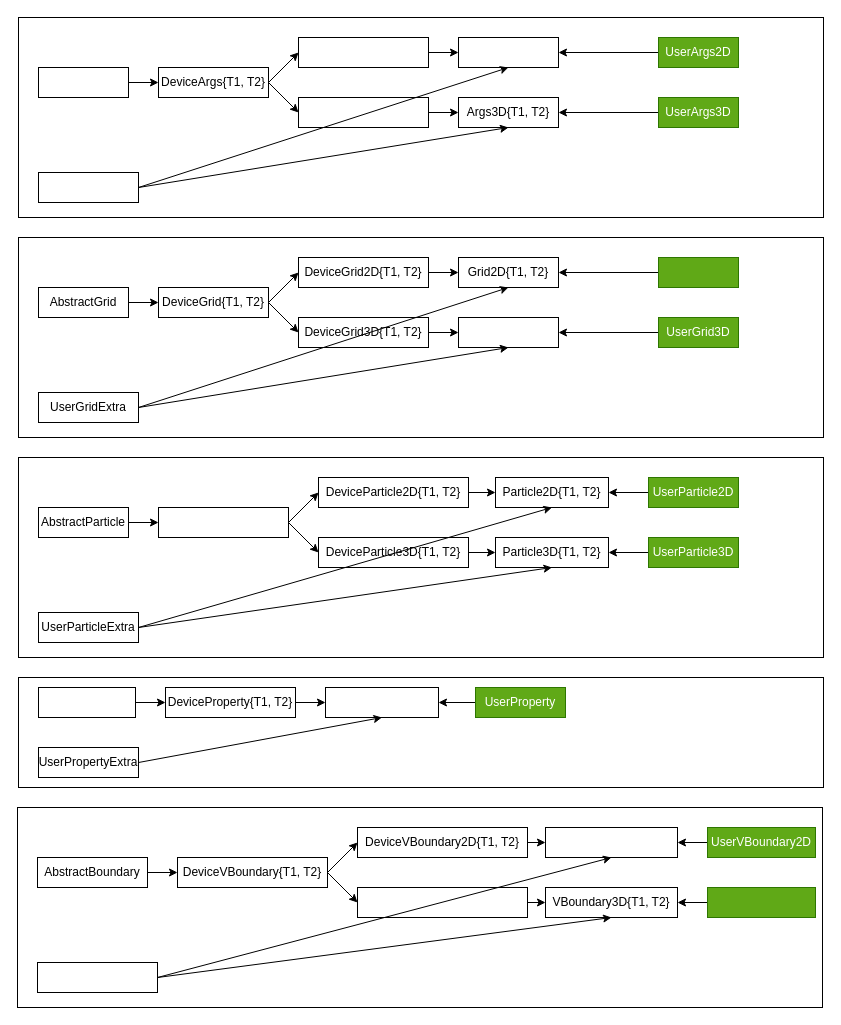
Image size: 841x1025. Some labels were removed from this diagram. The shapes that lost their labels are listed below. From the top down, each one's box as (x1, y1, x2, y2) in pixels, then its label:
(298, 36, 428, 68): DeviceArgs2D{T1, T2}
(458, 36, 558, 68): Args2D{T1, T2}
(38, 66, 128, 98): AbstractArgs
(298, 96, 428, 128): DeviceArgs3D{T1, T2}
(38, 172, 138, 202): UserArgsExtra
(658, 256, 738, 288): UserGrid2D
(458, 316, 558, 348): Grid3D{T1, T2}
(158, 506, 288, 538): DeviceParticle{T1, T2}
(38, 686, 136, 718): AbstractProperty
(324, 686, 438, 718): Property{T1, T2}
(544, 826, 678, 858): VBoundary2D{T1, T2}
(356, 886, 528, 918): DeviceVBoundary3D{T1, T2}
(706, 886, 816, 918): UserVBoundary3D
(36, 962, 158, 992): UserBoundaryExtra
